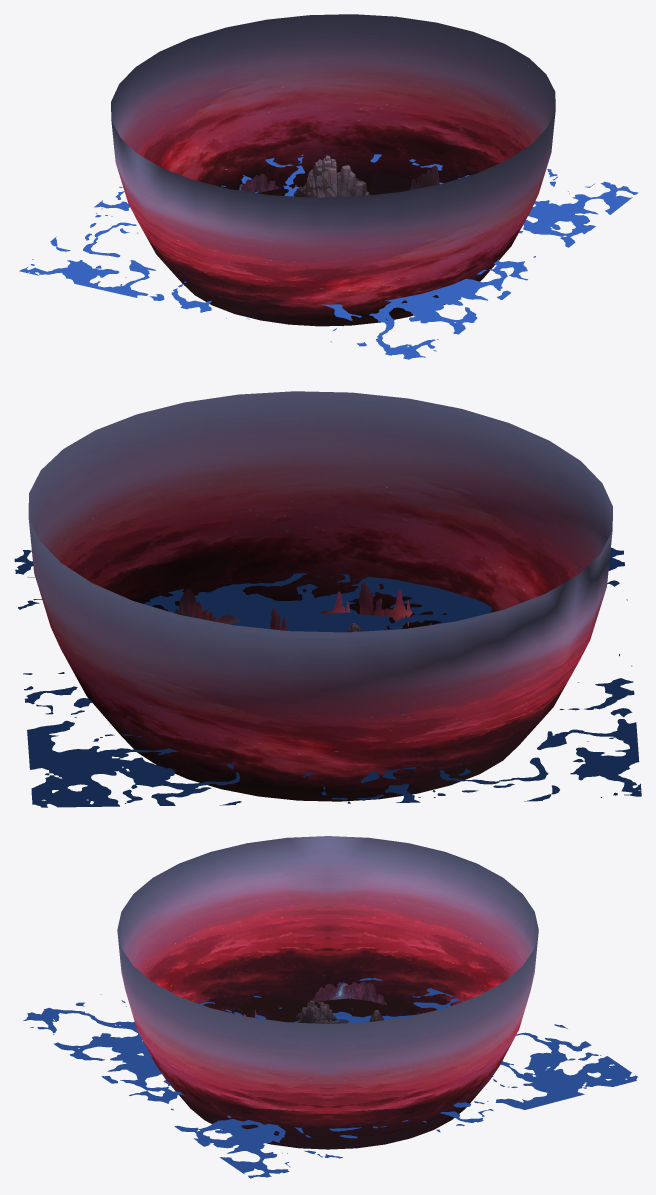
The model's file is Island.fbx.
The picture shows the model from 3 angles, top to bottom: view 1: azimuth 30°, elevation 25°; view 2: azimuth 150°, elevation 25°; view 3: azimuth 270°, elevation 25°; orthographic projection. The views are drawn at different scales.
Parts seen in each view (by area): view 1: Sky, Water, Rocks, Fondos; view 2: Sky, Water, Fondos; view 3: Sky, Water, Fondos, Rocks.
Boxes of the visible parts, left/top/right/bottom form: Sky: left=111, top=14, right=555, bottom=326; Water: left=19, top=154, right=638, bottom=359; Rocks: left=293, top=155, right=370, bottom=197; Fondos: left=235, top=165, right=439, bottom=193; Sky: left=28, top=391, right=612, bottom=801; Water: left=14, top=547, right=641, bottom=807; Fondos: left=174, top=582, right=432, bottom=630; Sky: left=117, top=836, right=538, bottom=1149; Water: left=23, top=975, right=638, bottom=1178; Fondos: left=243, top=982, right=423, bottom=1018; Rocks: left=295, top=1000, right=383, bottom=1023.
Bounding box in the file's own units: 354 × 108 × 354.
Materials: 14 (13 with a texture image).
